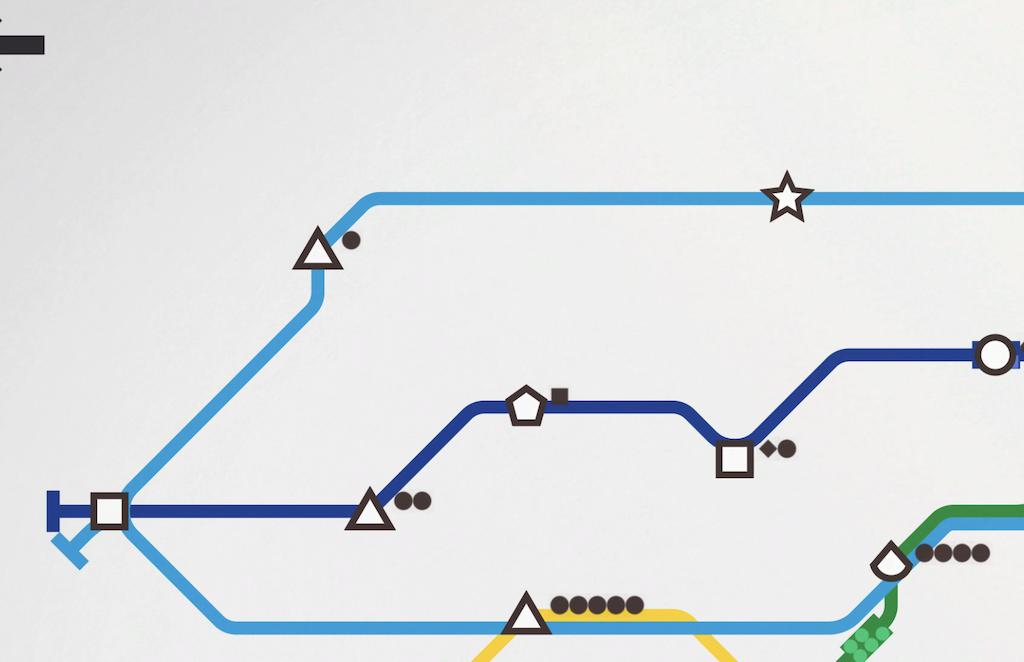connected_station: (483, 371, 572, 448), (687, 412, 766, 490), (756, 158, 819, 235), (73, 485, 152, 542), (337, 481, 404, 547), (286, 218, 353, 278), (961, 323, 1024, 378), (501, 588, 558, 648), (867, 537, 926, 590)
line_endpoint: (43, 529, 108, 585), (32, 485, 73, 535)
train: (839, 612, 905, 662), (967, 333, 1024, 372)
